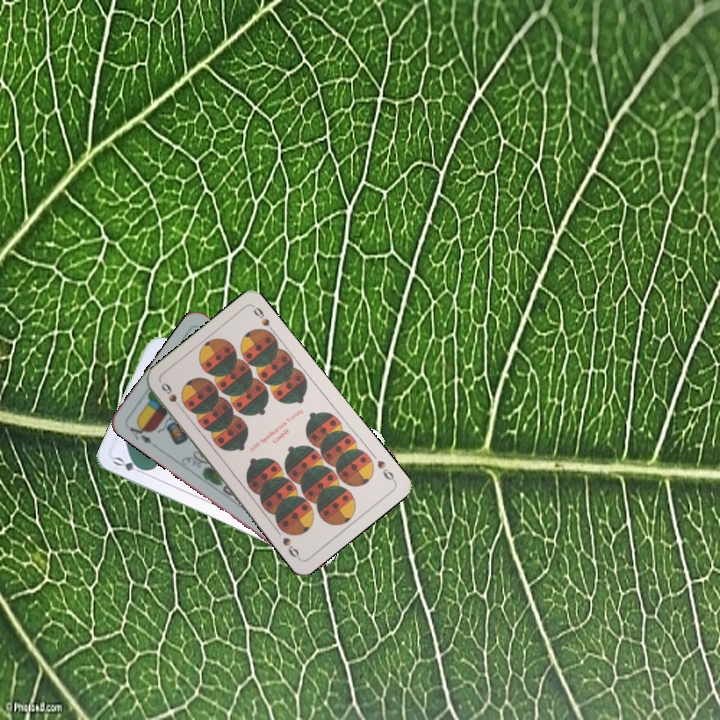EA: (125, 419, 154, 446)
GO: (109, 453, 150, 477)
S9: (157, 378, 186, 413), (373, 456, 398, 485)
